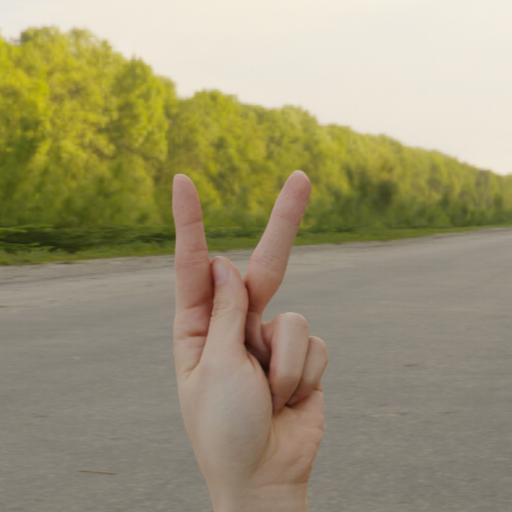K: (159, 158, 345, 512)
